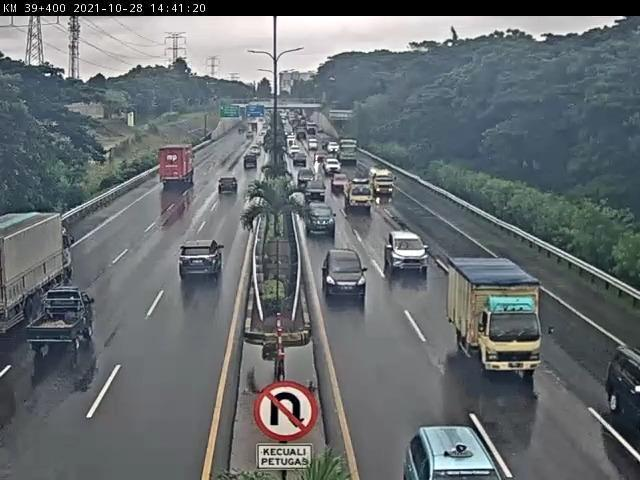car: (27, 288, 96, 352), (322, 249, 368, 301), (384, 233, 430, 278), (178, 239, 224, 281), (305, 203, 337, 240), (303, 181, 327, 203), (219, 177, 239, 194)
truck: (446, 256, 546, 378), (1, 210, 73, 336), (344, 179, 374, 213)
